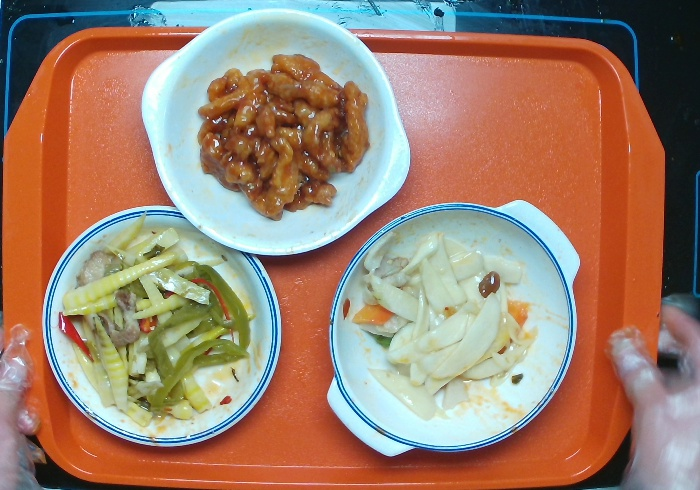HZYJPL-Dai_Er_Bai_Yuan_Wan: (138, 5, 413, 259)
HZYJPL-Lan_Bian_Dai_Er_Wan: (322, 197, 583, 460)
HZYJPL-Lan_Bian_Yuan_Die: (38, 202, 284, 450)
